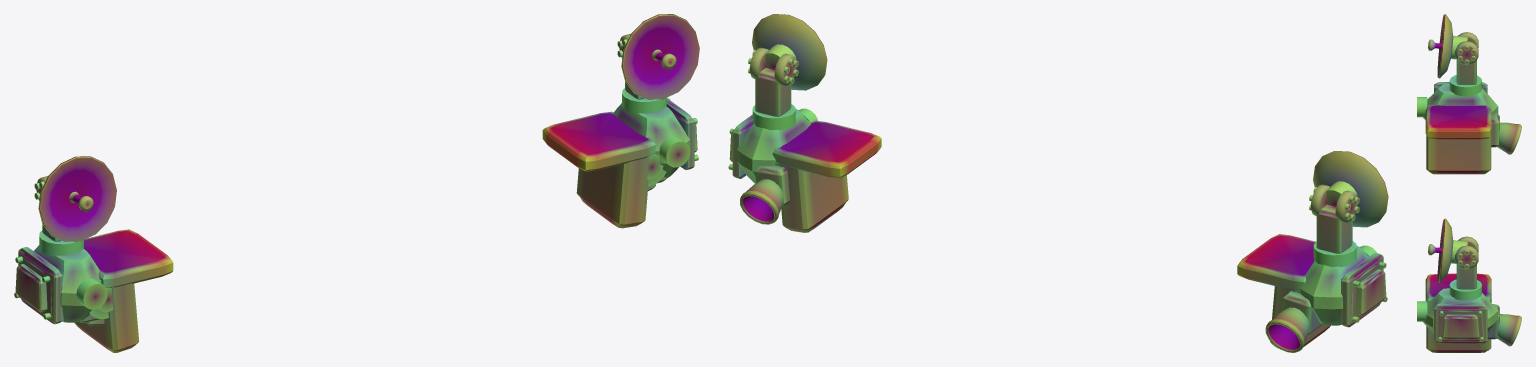
The model's file is llm_gen_shoulder_pods_063_55b7ed.glb.
3 renders of one model, left to right at view 1: azimuth 30°, elevation 25°; view 2: azimuth 150°, elevation 25°; view 3: azimuth 270°, elevation 25°, orthographic. The views are drawn at different scales.
Visible parts, largest first — view 1: adapter_shoulder_yoke_r, adapter_shoulder_yoke_l, parabolic_dish_5_crimson_gloss_r, parabolic_dish_5_crimson_gloss_l, radar_housing_0_crimson_gloss_l, radar_housing_0_crimson_gloss_r, ew_side_plate_blue_8_era_block_l, adapter_sub_ew_bezel_dark_7_adapter_dark_l, recon_optic_9_optic_cyan_l, recon_optic_9_optic_cyan_r, adapter_sub_ew_bezel_dark_7_adapter_dark_r, adapter_sub_azimuth_base_dark_1_adapter_dark_r (+1 smaller); view 2: adapter_shoulder_yoke_r, adapter_shoulder_yoke_l, parabolic_dish_5_crimson_gloss_l, parabolic_dish_5_crimson_gloss_r, radar_housing_0_crimson_gloss_l, radar_housing_0_crimson_gloss_r, addon_sh_vernier_11_vernier_bell_vernier_l, addon_sh_vernier_11_vernier_bell_vernier_r, ew_side_plate_blue_8_era_block_l, adapter_sub_dish_pedestal_dark_2_adapter_dark_r, adapter_sub_dish_pedestal_dark_2_adapter_dark_l, adapter_sub_ew_bezel_dark_7_adapter_dark_l (+7 smaller); view 3: adapter_shoulder_yoke_l, adapter_shoulder_yoke_r, ew_side_plate_blue_8_era_block_r, radar_housing_0_crimson_gloss_l, radar_housing_0_crimson_gloss_r, adapter_sub_ew_bezel_dark_7_adapter_dark_r, parabolic_dish_5_crimson_gloss_r, parabolic_dish_5_crimson_gloss_l, addon_sh_vernier_11_vernier_bell_vernier_r, addon_sh_vernier_11_vernier_bell_vernier_l, servo_3_servo_accent_r, servo_3_servo_accent_l (+15 smaller).
Boxes of the visible parts, box(x1,y1,x2,y2) form: adapter_shoulder_yoke_r: box(542, 111, 666, 228); adapter_shoulder_yoke_l: box(74, 229, 173, 352); parabolic_dish_5_crimson_gloss_r: box(621, 14, 699, 99); parabolic_dish_5_crimson_gloss_l: box(38, 156, 116, 241); radar_housing_0_crimson_gloss_l: box(34, 245, 101, 322); radar_housing_0_crimson_gloss_r: box(613, 103, 690, 177); ew_side_plate_blue_8_era_block_l: box(14, 256, 52, 319); adapter_sub_ew_bezel_dark_7_adapter_dark_l: box(18, 247, 62, 324); recon_optic_9_optic_cyan_l: box(76, 278, 107, 309); recon_optic_9_optic_cyan_r: box(659, 136, 690, 167); adapter_sub_ew_bezel_dark_7_adapter_dark_r: box(666, 98, 694, 169); adapter_sub_azimuth_base_dark_1_adapter_dark_r: box(622, 88, 666, 114); adapter_shoulder_yoke_r: box(772, 120, 881, 232); adapter_shoulder_yoke_l: box(1237, 234, 1330, 352); parabolic_dish_5_crimson_gloss_l: box(1313, 151, 1388, 227); parabolic_dish_5_crimson_gloss_r: box(752, 14, 827, 90); radar_housing_0_crimson_gloss_l: box(1300, 245, 1368, 325); radar_housing_0_crimson_gloss_r: box(736, 108, 810, 183); addon_sh_vernier_11_vernier_bell_vernier_l: box(1265, 307, 1309, 352); addon_sh_vernier_11_vernier_bell_vernier_r: box(740, 179, 783, 224); ew_side_plate_blue_8_era_block_l: box(1351, 261, 1387, 322); adapter_sub_dish_pedestal_dark_2_adapter_dark_r: box(755, 68, 791, 116); adapter_sub_dish_pedestal_dark_2_adapter_dark_l: box(1316, 205, 1352, 253); adapter_sub_ew_bezel_dark_7_adapter_dark_l: box(1341, 253, 1383, 327); adapter_shoulder_yoke_l: box(1425, 105, 1491, 174); adapter_shoulder_yoke_r: box(1425, 273, 1491, 352); ew_side_plate_blue_8_era_block_r: box(1437, 310, 1483, 341); radar_housing_0_crimson_gloss_l: box(1423, 84, 1498, 119); radar_housing_0_crimson_gloss_r: box(1423, 288, 1498, 333); adapter_sub_ew_bezel_dark_7_adapter_dark_r: box(1434, 303, 1487, 343); parabolic_dish_5_crimson_gloss_r: box(1437, 218, 1453, 282); parabolic_dish_5_crimson_gloss_l: box(1437, 14, 1453, 78); addon_sh_vernier_11_vernier_bell_vernier_r: box(1497, 314, 1521, 346); addon_sh_vernier_11_vernier_bell_vernier_l: box(1497, 122, 1521, 154); servo_3_servo_accent_r: box(1455, 236, 1478, 269); servo_3_servo_accent_l: box(1455, 32, 1478, 65).
Size of the model in its own units: 108 by 30.7 by 20.63.
